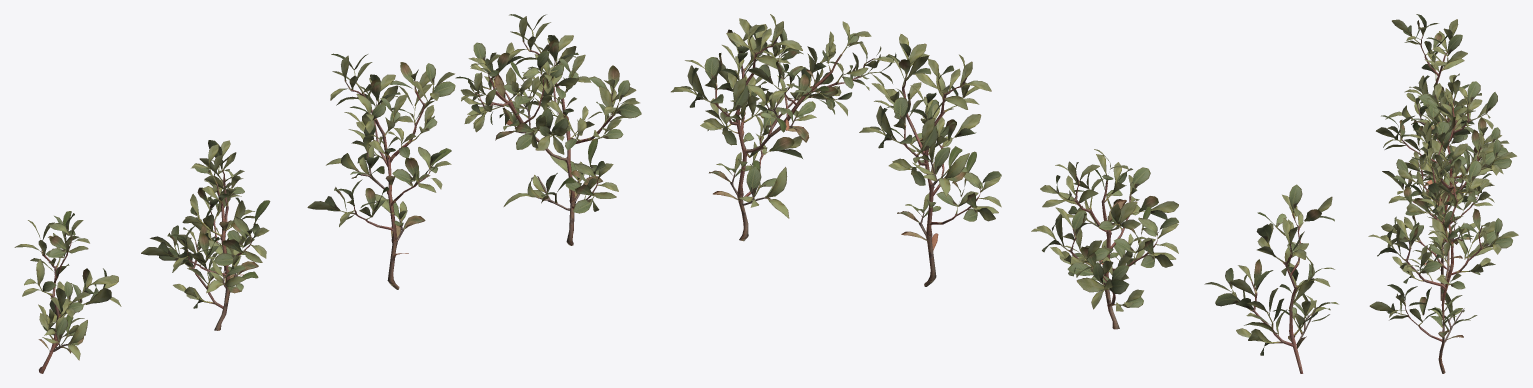
The model's file is shrub_04.glb.
The picture shows the model from 3 angles, left to right: view 1: azimuth 30°, elevation 25°; view 2: azimuth 150°, elevation 25°; view 3: azimuth 270°, elevation 25°; orthographic projection. The views are drawn at different scales.
Parts seen in each view (by area): view 1: shrub_04; view 2: shrub_04; view 3: shrub_04.
Part boxes in pixels (box(x1,y1,x2,y2)): shrub_04: box(14, 14, 641, 373); shrub_04: box(671, 14, 1338, 373); shrub_04: box(1368, 14, 1518, 373).
Bounding box in the file's own units: 0.5837 × 0.2192 × 0.1461.
Materials: 1 (1 with a texture image).
